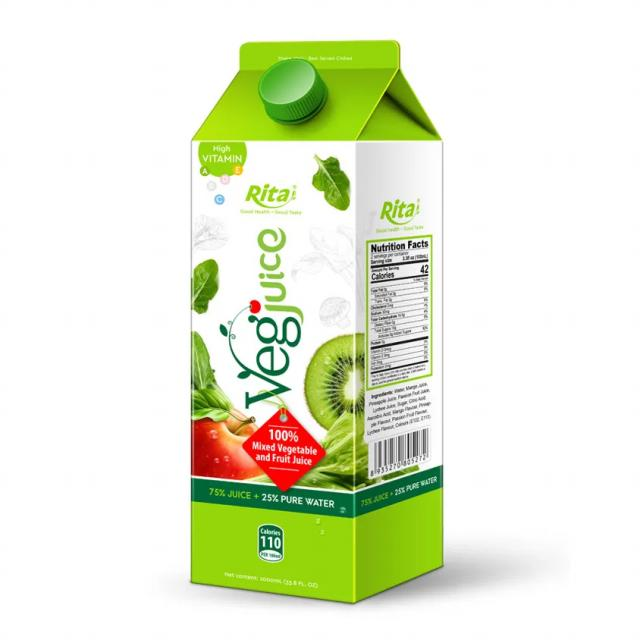non_white_jug: (166, 22, 454, 605)
